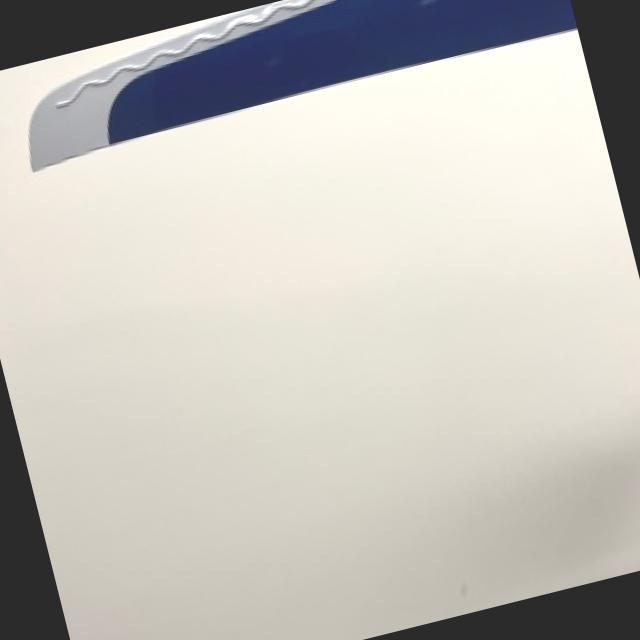healthy: (26, 0, 574, 166)
